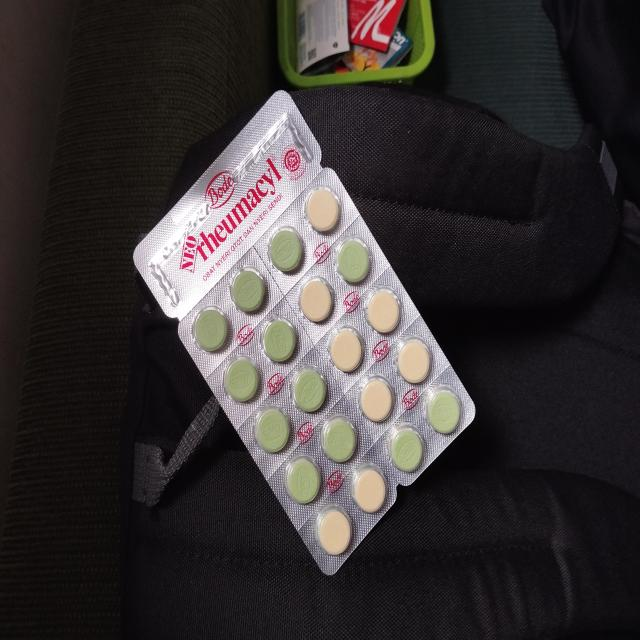B3: (130, 90, 478, 573), (345, 0, 406, 52)
